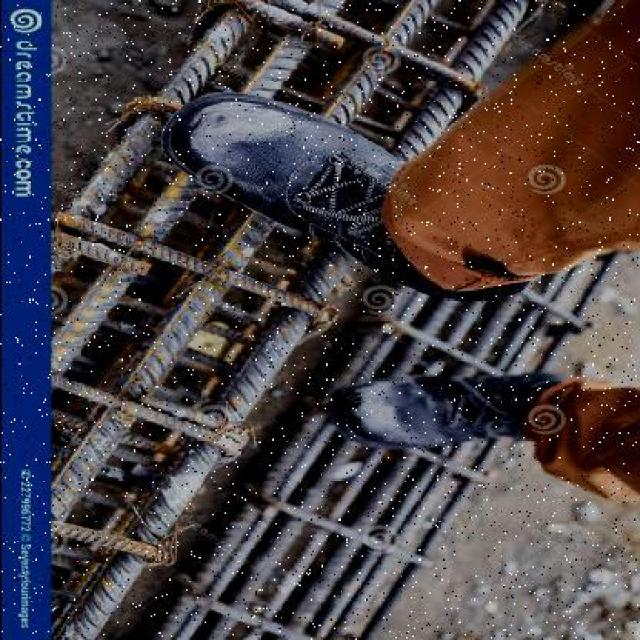shoes: (168, 94, 522, 294), (340, 368, 568, 449)
